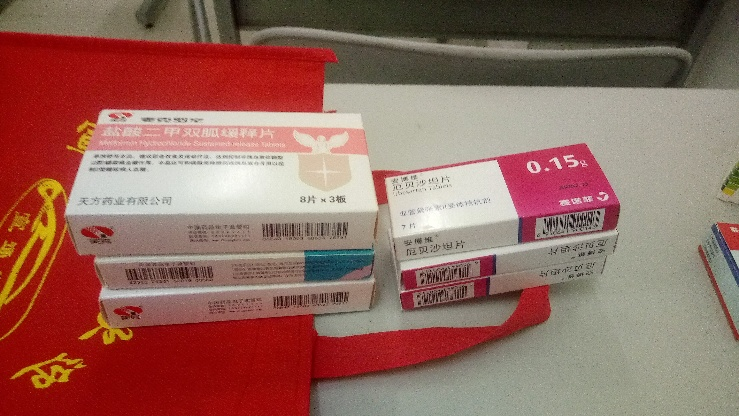pillbox: (69, 110, 377, 248), (386, 145, 623, 260), (95, 284, 377, 324), (404, 237, 620, 287), (91, 248, 375, 285), (400, 266, 609, 313)
